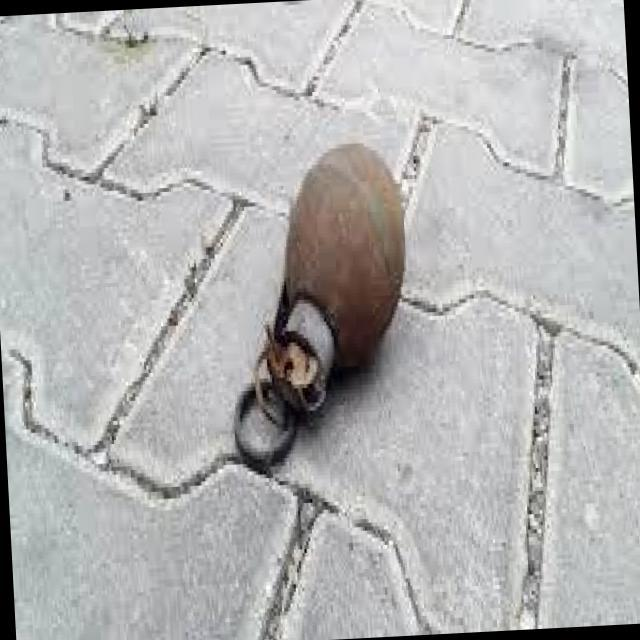grenade: (217, 147, 425, 490)
